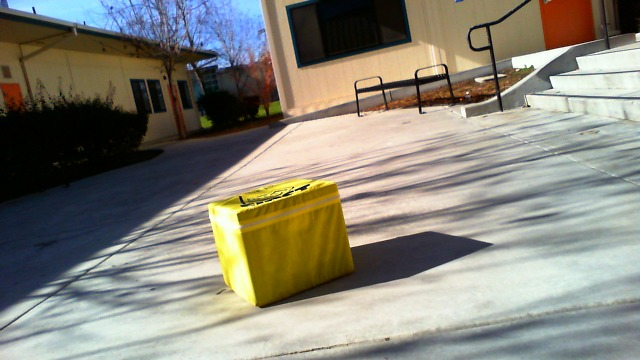cube: (207, 177, 363, 307)
